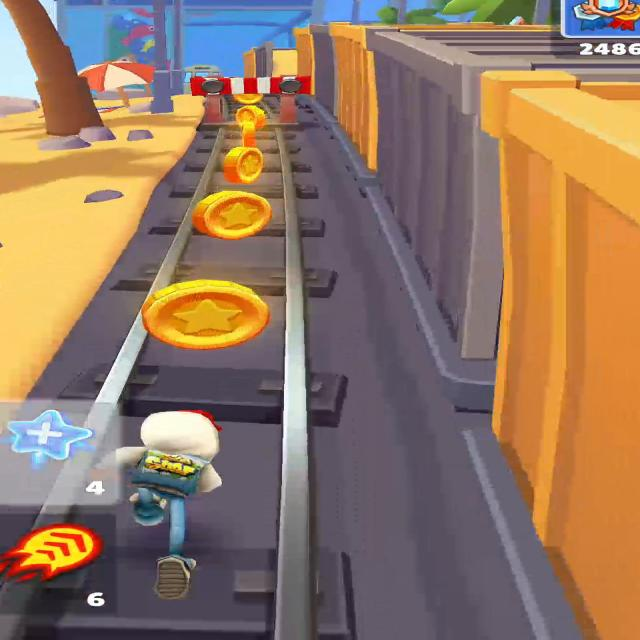blocker: (191, 76, 311, 125)
climber: (271, 49, 297, 75)
train: (294, 23, 639, 640), (244, 42, 273, 76), (185, 65, 222, 79)
